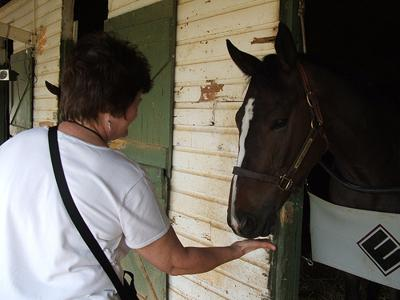person: (2, 34, 275, 300)
